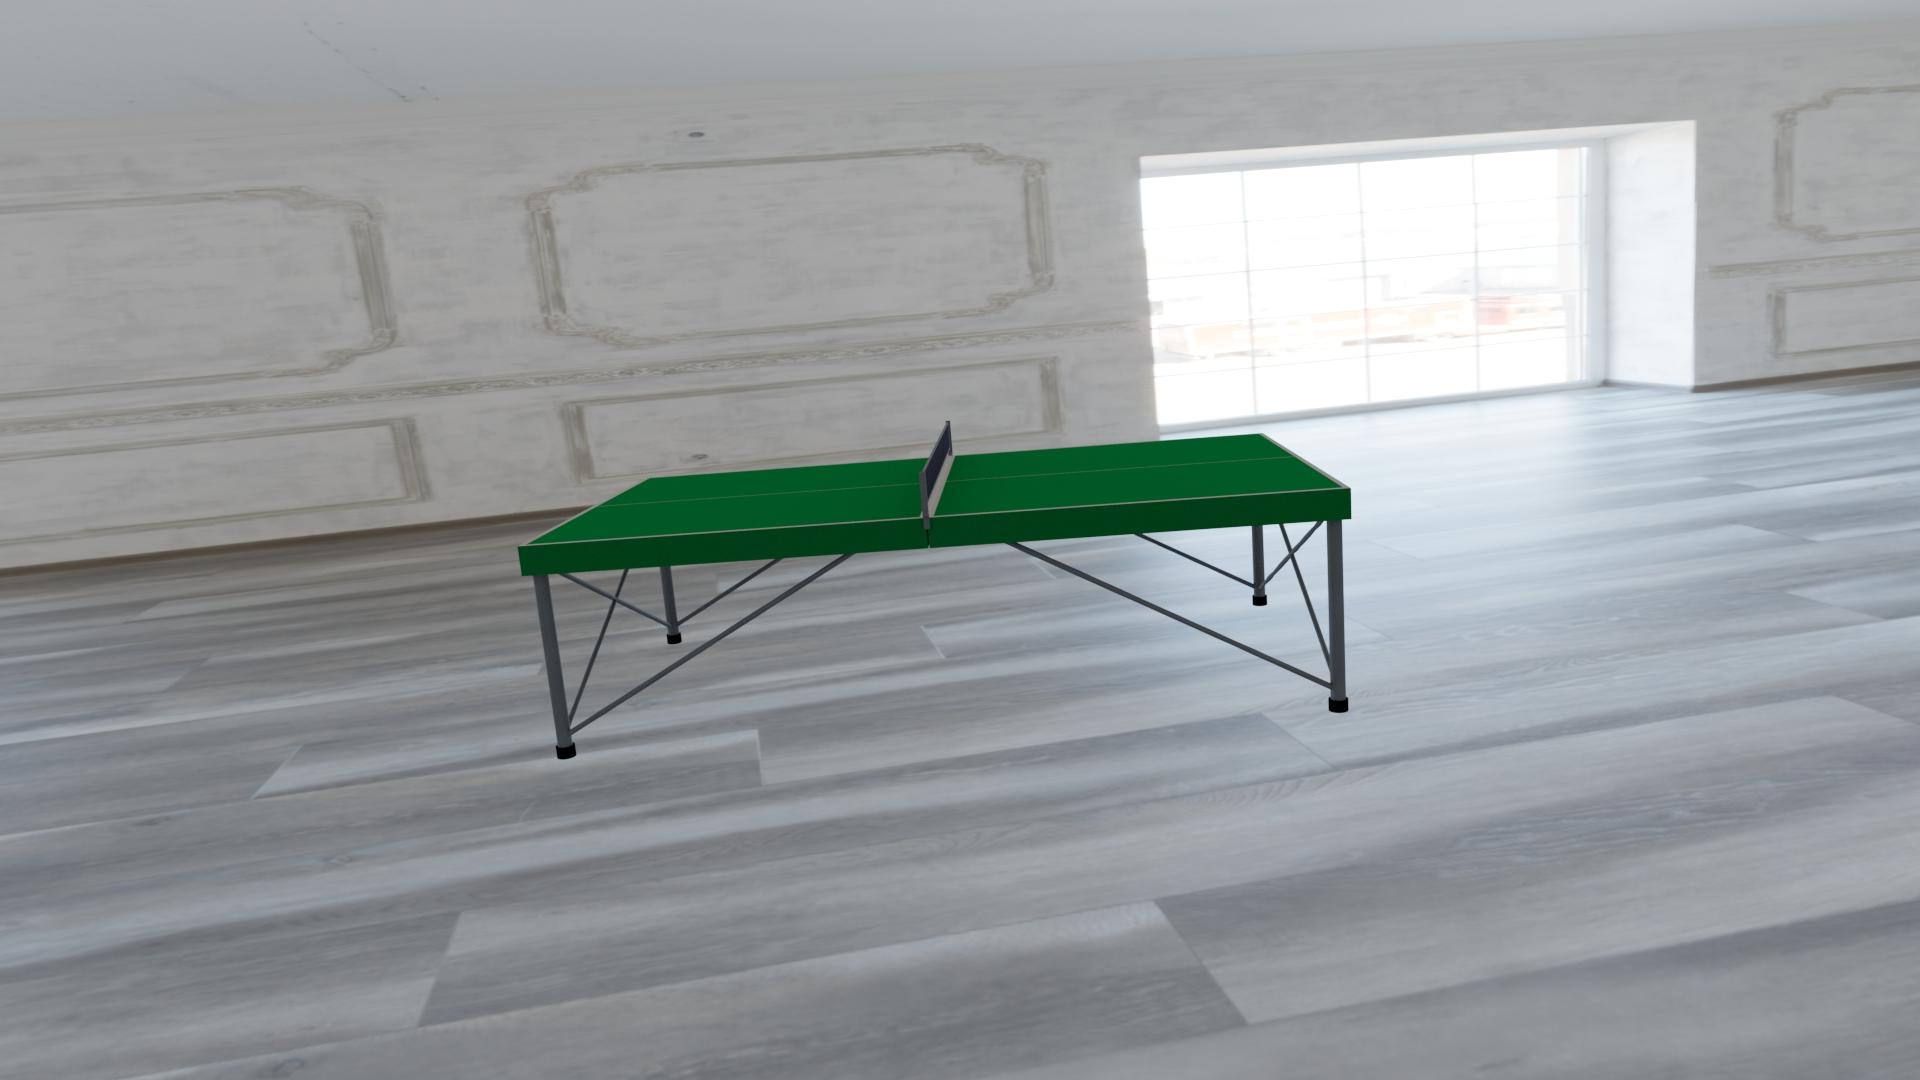table: (525, 434, 1344, 545)
